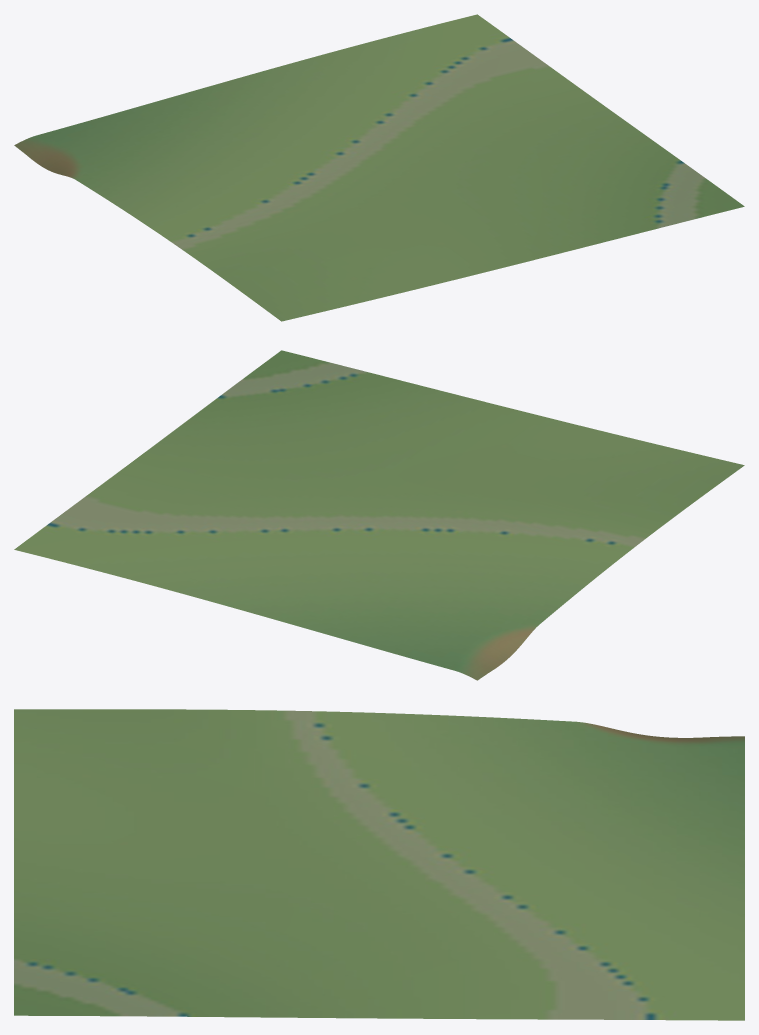
The model's file is terrain_T_E00_S03.glb.
3 views of the same model, one above another, from view 1: azimuth 30°, elevation 25°; view 2: azimuth 150°, elevation 25°; view 3: azimuth 270°, elevation 25° (orthographic). The views are drawn at different scales.
Parts seen in each view (by area): view 1: Terrain_T_E00_S03; view 2: Terrain_T_E00_S03; view 3: Terrain_T_E00_S03.
Boxes of the visible parts, x1=… form: Terrain_T_E00_S03: x1=14, y1=14, x2=744, y2=321; Terrain_T_E00_S03: x1=14, y1=350, x2=744, y2=680; Terrain_T_E00_S03: x1=14, y1=709, x2=744, y2=1020.
Size of the model in its own units: 2000 by 93.78 by 2000.
1 material, 1 textured.
